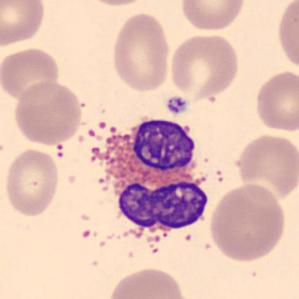Eosinophil: (80, 110, 217, 254)
Platelets: (164, 94, 190, 116)
RBC: (206, 181, 288, 264), (110, 10, 173, 94), (167, 31, 241, 102), (12, 79, 86, 147), (233, 131, 298, 202), (2, 146, 62, 218), (1, 46, 61, 102), (252, 68, 299, 134), (105, 265, 191, 299), (0, 0, 47, 49), (178, 0, 246, 33), (274, 0, 299, 74), (79, 0, 153, 7)
